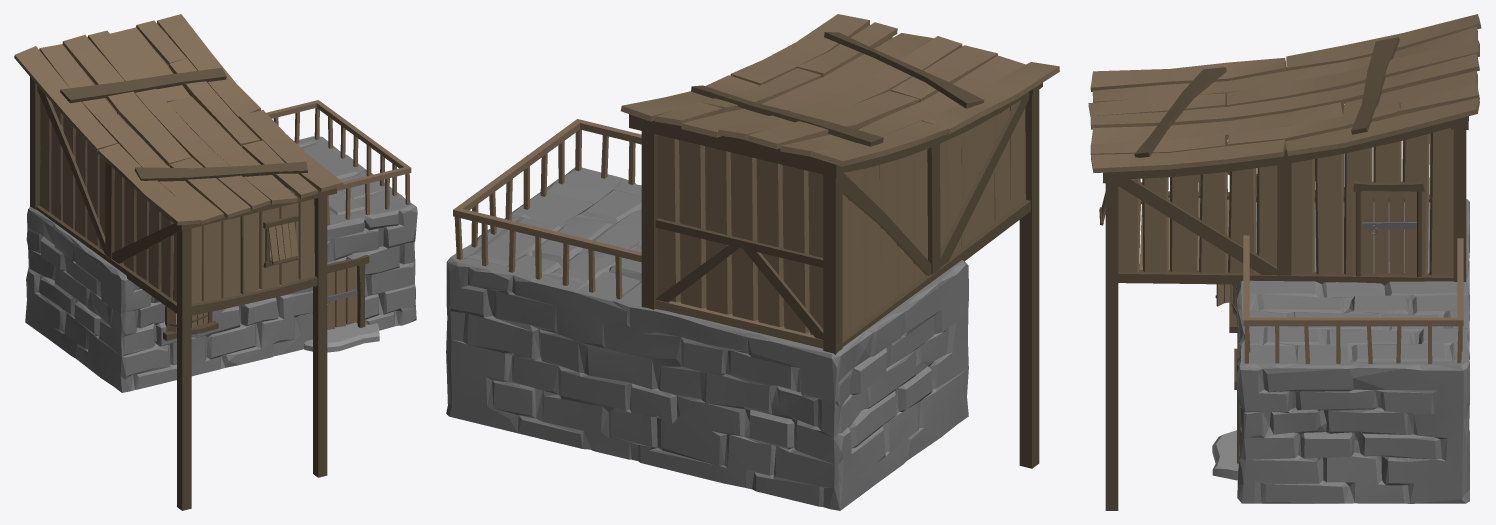
The model's file is village_stone_house_f.FBX.
3 views of the same model, side by side, from view 1: azimuth 30°, elevation 25°; view 2: azimuth 150°, elevation 25°; view 3: azimuth 270°, elevation 25° (orthographic). The views are drawn at different scales.
Visible parts, largest first — view 1: village_stone_house_f; view 2: village_stone_house_f; view 3: village_stone_house_f.
Part boxes in pixels (x1=…): village_stone_house_f: x1=14, y1=14, x2=417, y2=510; village_stone_house_f: x1=446, y1=14, x2=1059, y2=510; village_stone_house_f: x1=1088, y1=14, x2=1481, y2=510.
Bounding box in the file's own units: 8.17 × 8.94 × 7.76.
